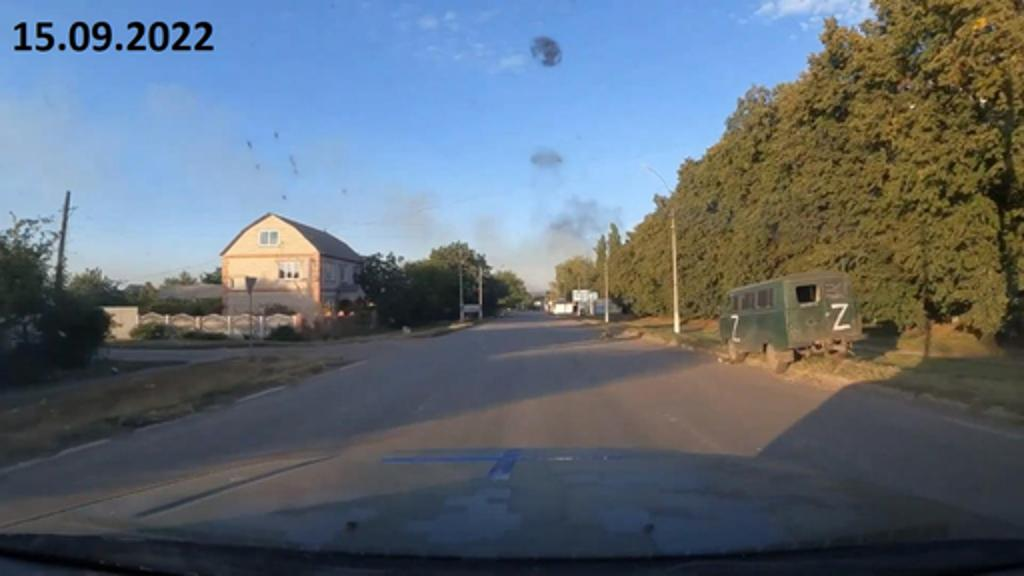CAR: (718, 264, 864, 370)
